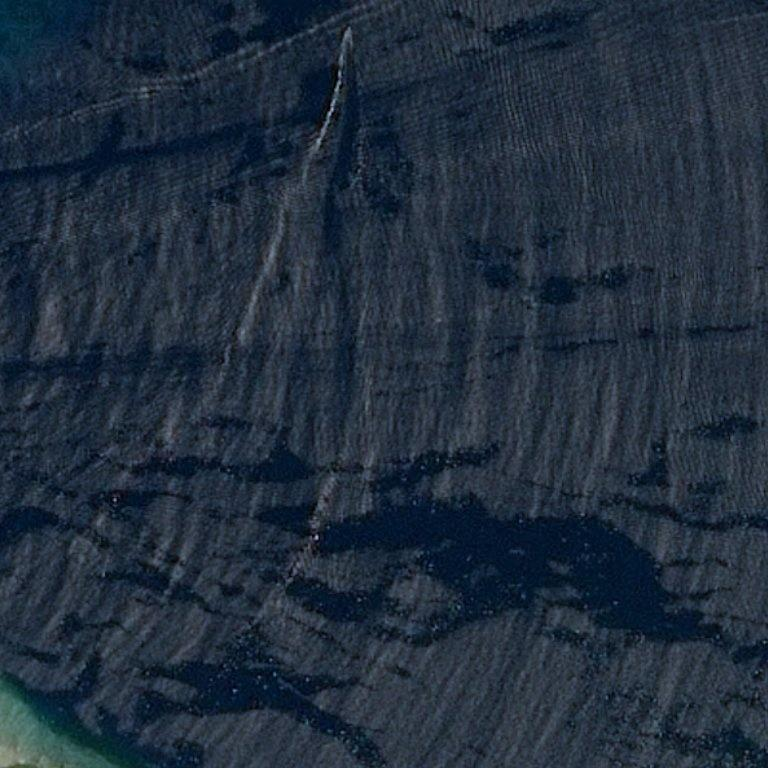ship: (347, 26, 352, 32), (349, 26, 351, 28), (346, 30, 347, 31), (351, 7, 351, 8)
